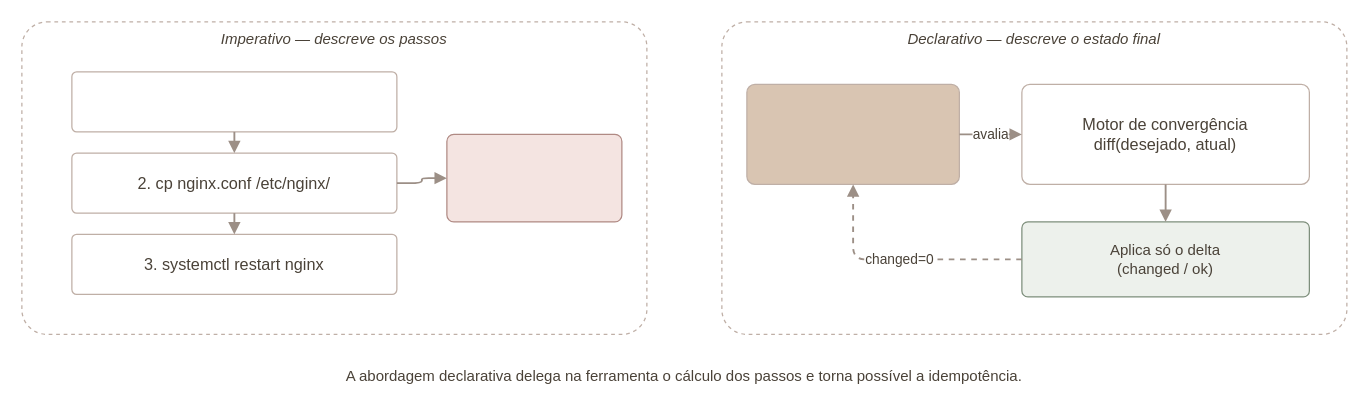
The diagram is 1369 pixels wide and 416 high, and some of its shapes have lost their labels. The centre of each missing label's shape, as x and y in pixels:
"1. apt install nginx" goes at point (234, 101).
"Estado desejado (nginx: present, service: started)" goes at point (852, 133).
"Não idempotente: depende do estado inicial" goes at point (534, 177).
